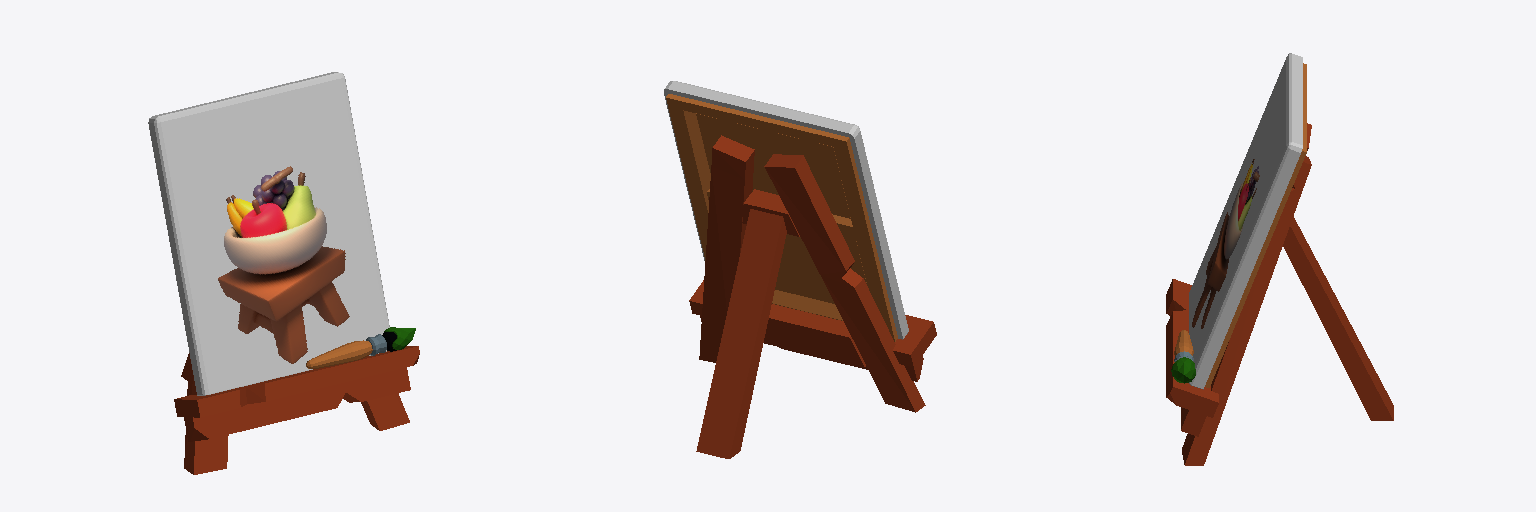
3 renders of one model, left to right at view 1: azimuth 30°, elevation 25°; view 2: azimuth 150°, elevation 25°; view 3: azimuth 270°, elevation 25°, orthographic.
Visible parts, largest first — view 1: easel_painting_textured_Cube.188, easel_with_painting_Cube.178, easel_paintbrush_Cylinder.105; view 2: easel_with_painting_Cube.178, easel_painting_textured_Cube.188; view 3: easel_painting_textured_Cube.188, easel_with_painting_Cube.178, easel_paintbrush_Cylinder.105.
Part boxes in pixels (x1,y1,x2,y2): easel_painting_textured_Cube.188: (148,72,389,395); easel_with_painting_Cube.178: (174,346,419,474); easel_paintbrush_Cylinder.105: (306,327,415,368); easel_with_painting_Cube.178: (689,135,936,458); easel_painting_textured_Cube.188: (664,81,908,341); easel_painting_textured_Cube.188: (1189,53,1306,389); easel_with_painting_Cube.178: (1166,123,1393,465); easel_paintbrush_Cylinder.105: (1171,330,1195,383).
Bounding box in the file's own units: 1.4 × 1.88 × 1.23.
7 materials, 1 textured.